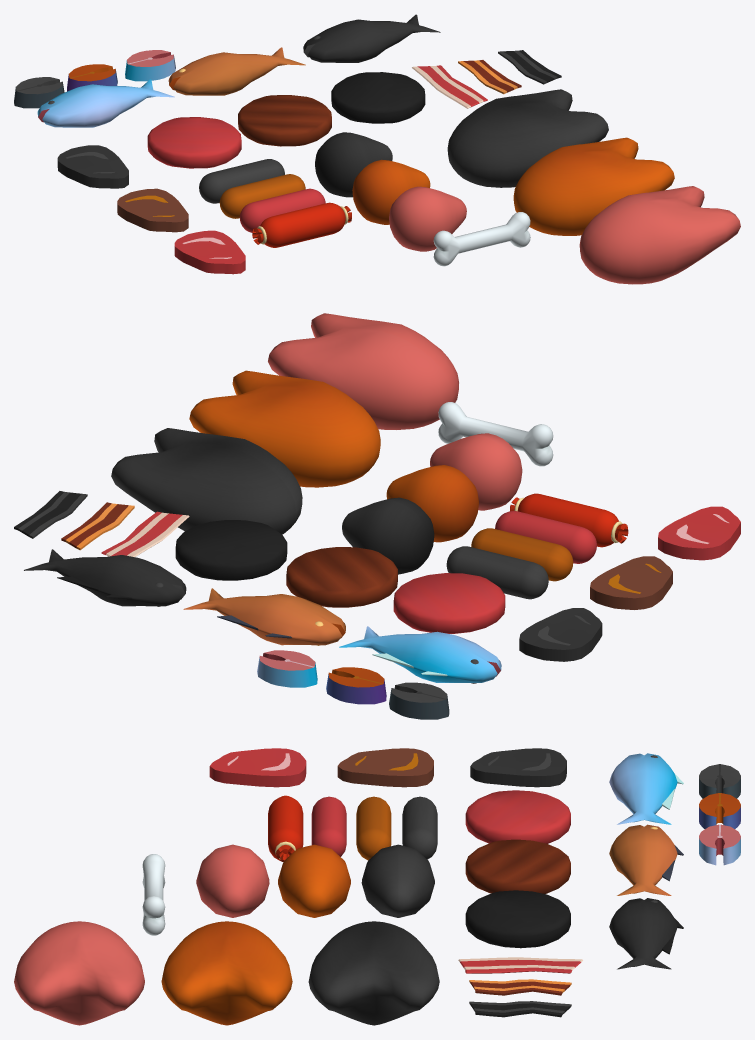
Rendered from meat.fbx.
3 views of the same model, one above another, from view 1: azimuth 30°, elevation 25°; view 2: azimuth 150°, elevation 25°; view 3: azimuth 270°, elevation 25° (orthographic). The views are drawn at different scales.
Parts seen in each view (by area): view 1: chicken_Raw, chicken_Burnt, chicken_Cooked, groundBeef_Raw, groundBeef_Burnt, groundBeef_Cooked, chicken_Leg_Meat_Raw, fish, fish_Cooked, fish_Burnt, chicken_Leg_Meat_Burnt, chicken_Leg_Meat_Cooked (+14 smaller); view 2: chicken_Cooked, chicken_Raw, chicken_Burnt, groundBeef_Burnt, groundBeef_Raw, groundBeef_Cooked, fish_Burnt, fish_Cooked, fish, chicken_Leg_Meat_Burnt, chicken_Leg_Meat_Cooked, chicken_Leg_Meat_Raw (+14 smaller); view 3: chicken_Cooked, chicken_Burnt, chicken_Raw, groundBeef_Burnt, groundBeef_Cooked, groundBeef_Raw, chicken_Leg_Meat_Burnt, chicken_Leg_Meat_Cooked, chicken_Leg_Meat_Raw, fish_Burnt, fish, fish_Cooked (+14 smaller).
Part boxes in pixels (x1=…): chicken_Raw: x1=579, y1=186, x2=740, y2=284; chicken_Burnt: x1=447, y1=89, x2=608, y2=187; chicken_Cooked: x1=513, y1=137, x2=674, y2=235; groundBeef_Raw: x1=147, y1=117, x2=241, y2=168; groundBeef_Burnt: x1=331, y1=72, x2=425, y2=123; groundBeef_Cooked: x1=238, y1=95, x2=331, y2=146; chicken_Leg_Meat_Raw: x1=389, y1=186, x2=466, y2=251; fish: x1=37, y1=79, x2=174, y2=127; fish_Cooked: x1=168, y1=47, x2=305, y2=95; fish_Burnt: x1=303, y1=14, x2=440, y2=62; chicken_Leg_Meat_Burnt: x1=315, y1=132, x2=392, y2=197; chicken_Leg_Meat_Cooked: x1=352, y1=159, x2=430, y2=224; chicken_Cooked: x1=189, y1=370, x2=380, y2=487; chicken_Raw: x1=268, y1=313, x2=458, y2=429; chicken_Burnt: x1=111, y1=428, x2=302, y2=534; groundBeef_Burnt: x1=175, y1=520, x2=287, y2=580; groundBeef_Raw: x1=393, y1=573, x2=505, y2=633; groundBeef_Cooked: x1=286, y1=547, x2=397, y2=607; fish_Burnt: x1=24, y1=549, x2=186, y2=606; fish_Cooked: x1=183, y1=588, x2=345, y2=645; fish: x1=339, y1=626, x2=501, y2=683; chicken_Leg_Meat_Burnt: x1=342, y1=497, x2=434, y2=574; chicken_Leg_Meat_Cooked: x1=386, y1=465, x2=478, y2=542; chicken_Leg_Meat_Raw: x1=430, y1=433, x2=522, y2=510; chicken_Cooked: x1=161, y1=921, x2=292, y2=1025; chicken_Burnt: x1=308, y1=921, x2=439, y2=1025; chicken_Raw: x1=14, y1=921, x2=144, y2=1025; groundBeef_Burnt: x1=465, y1=890, x2=570, y2=948; groundBeef_Cooked: x1=465, y1=839, x2=570, y2=893; groundBeef_Raw: x1=465, y1=790, x2=570, y2=843; chicken_Leg_Meat_Burnt: x1=361, y1=844, x2=434, y2=917; chicken_Leg_Meat_Cooked: x1=278, y1=844, x2=350, y2=917; chicken_Leg_Meat_Raw: x1=196, y1=844, x2=269, y2=917; fish_Burnt: x1=609, y1=898, x2=683, y2=969; fish: x1=609, y1=753, x2=683, y2=824; fish_Cooked: x1=609, y1=824, x2=683, y2=895.
Bounding box in the file's own units: 6.91 × 8.27 × 1.07.
